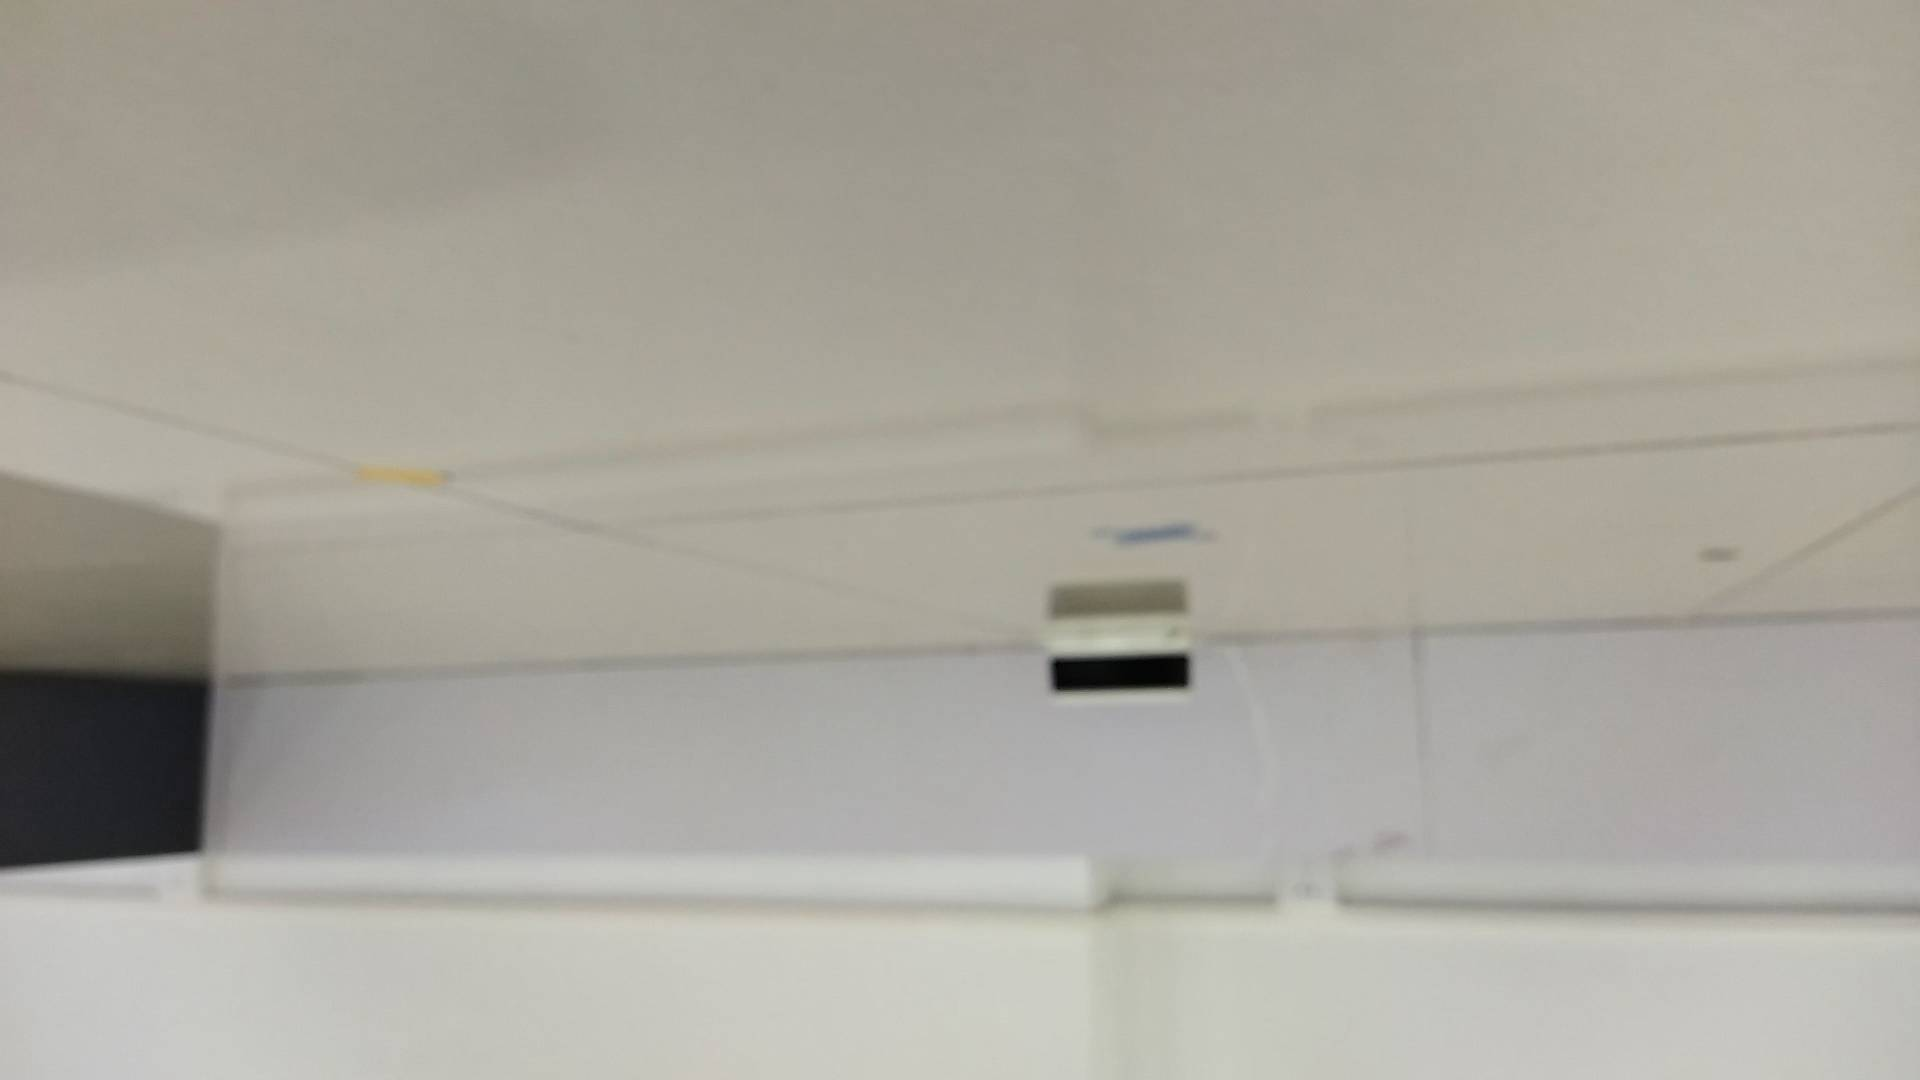recharge seat: (1039, 609, 1207, 703)
